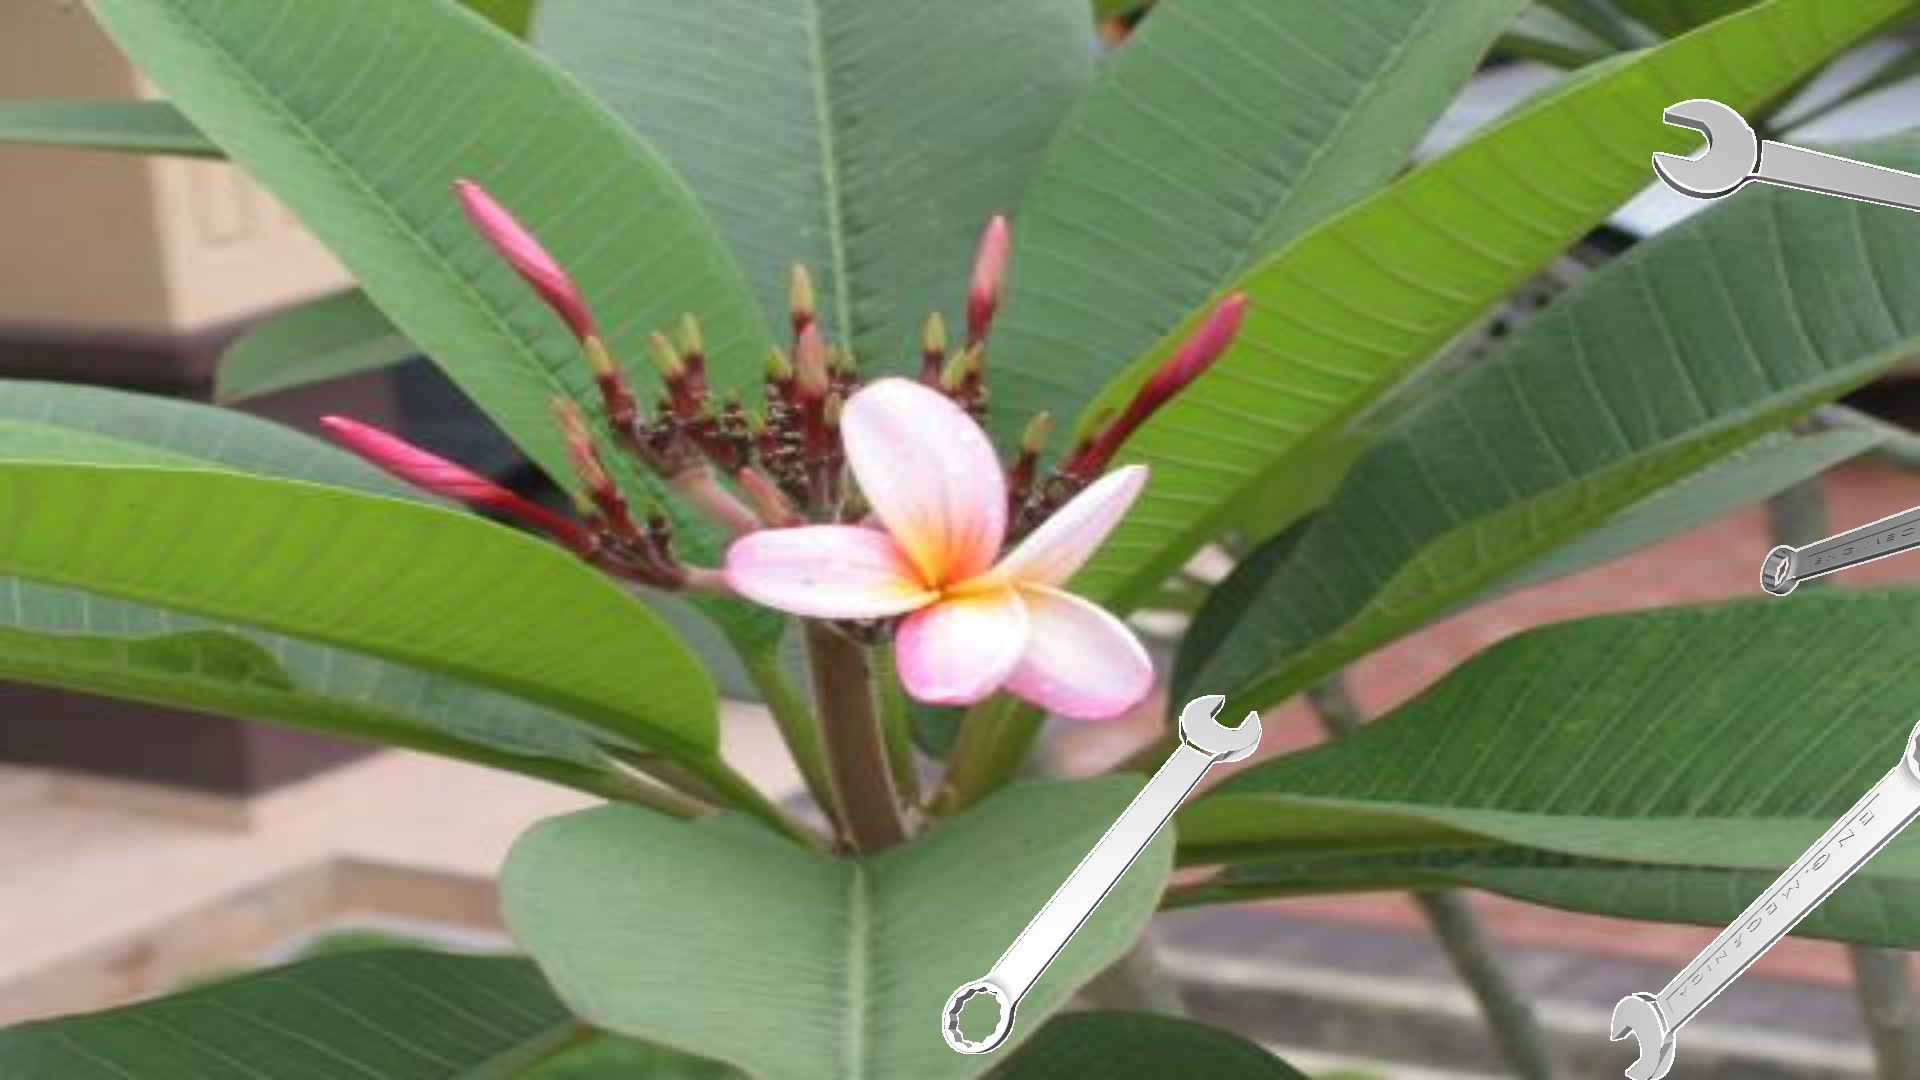Mixed Key: (942, 695, 1261, 1054), (1610, 720, 1919, 1079), (1652, 99, 1919, 211), (1760, 506, 1919, 595)
